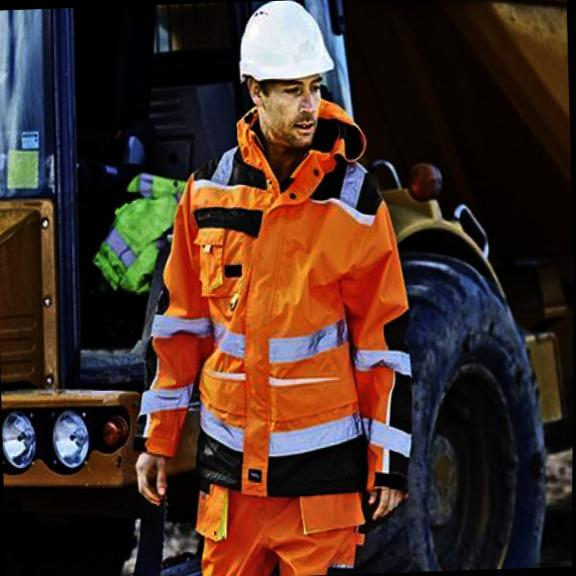safety_vest: (178, 148, 405, 474)
